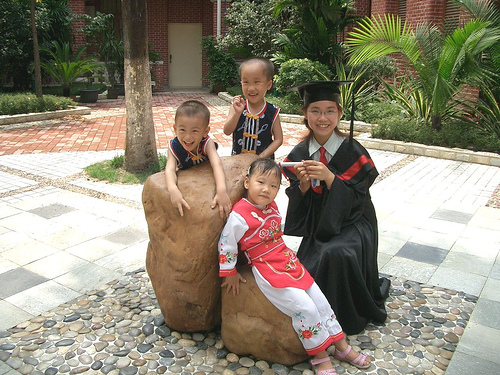without_mask: (172, 108, 210, 150), (306, 97, 341, 138), (243, 167, 280, 204), (239, 63, 272, 103)
